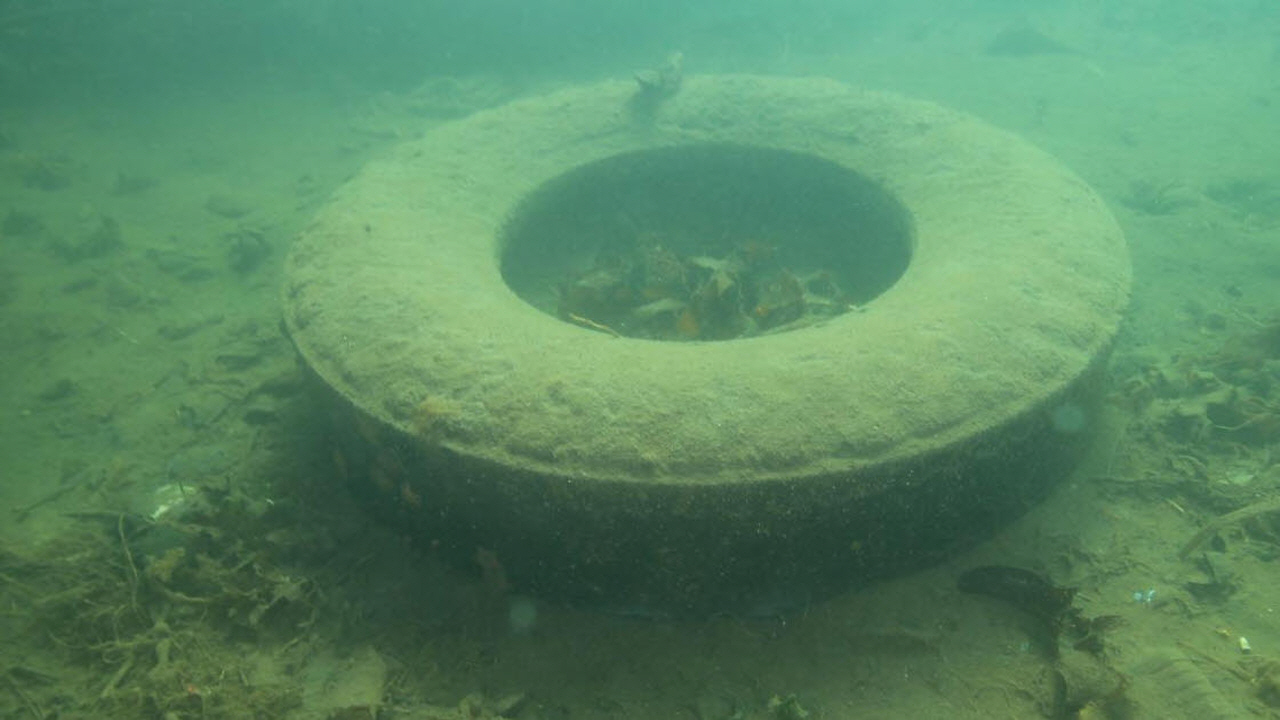tire: (278, 70, 1134, 619)
